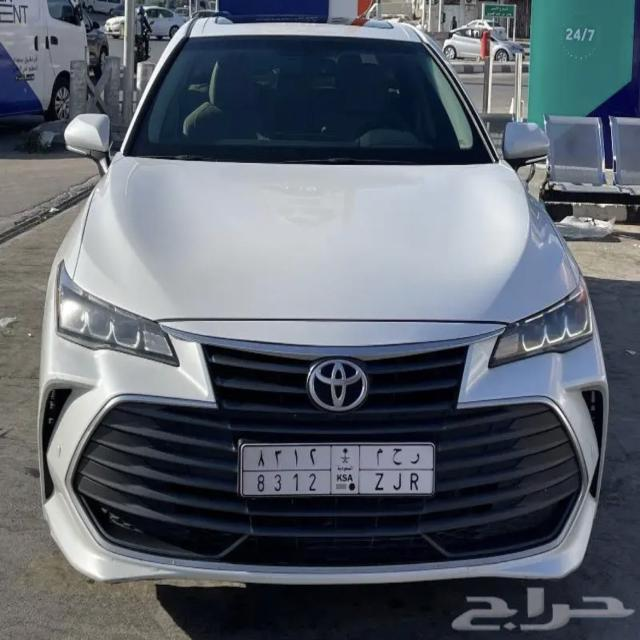license_plate: (240, 442, 436, 501)
